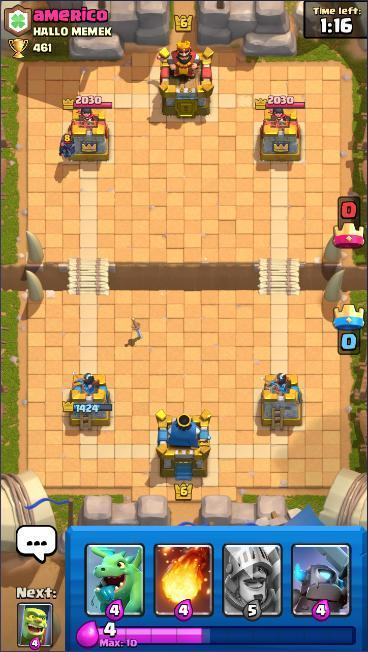enemy_mini_pekka: (57, 132, 78, 162)
